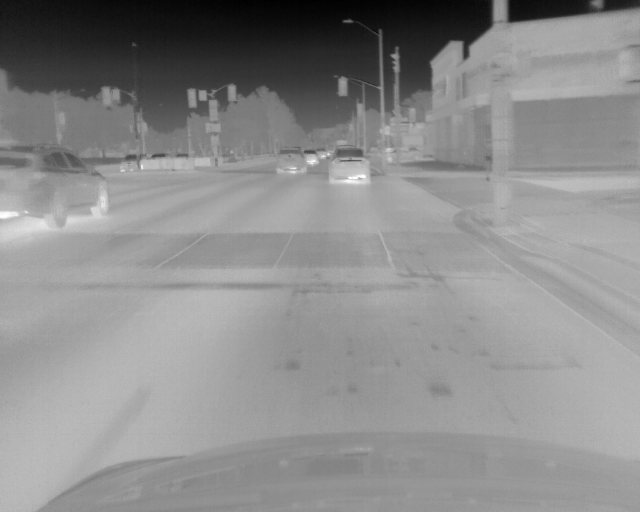car: (1, 143, 114, 227), (326, 145, 369, 185), (276, 145, 305, 175), (116, 152, 138, 171), (302, 151, 319, 166), (316, 148, 326, 159)
people: (481, 137, 495, 182)
